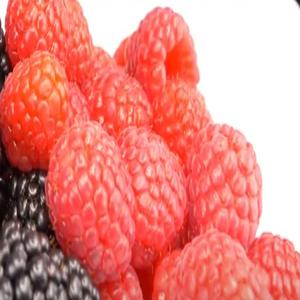raspb: (53, 1, 262, 300)
